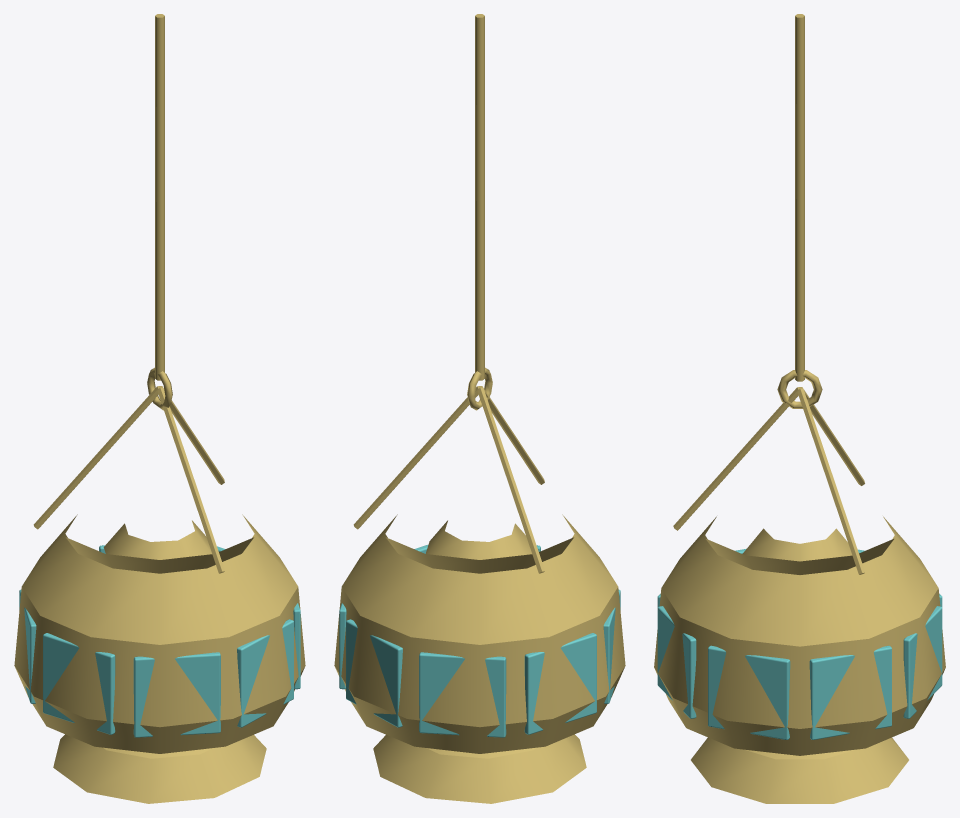
The picture shows the model from 3 angles, left to right: view 1: azimuth 30°, elevation 25°; view 2: azimuth 150°, elevation 25°; view 3: azimuth 270°, elevation 25°; orthographic projection.
Parts seen in each view (by area): view 1: lamp/brass, lamp/glaze; view 2: lamp/brass, lamp/glaze; view 3: lamp/brass, lamp/glaze.
Part boxes in pixels (<box>): lamp/brass: <box>14,14,305,803</box>; lamp/glaze: <box>19,545,300,737</box>; lamp/brass: <box>334,14,625,803</box>; lamp/glaze: <box>339,545,620,737</box>; lamp/brass: <box>654,14,945,803</box>; lamp/glaze: <box>657,548,942,739</box>.
Bounding box in the file's own units: 0.7999 × 2.25 × 0.7999.
